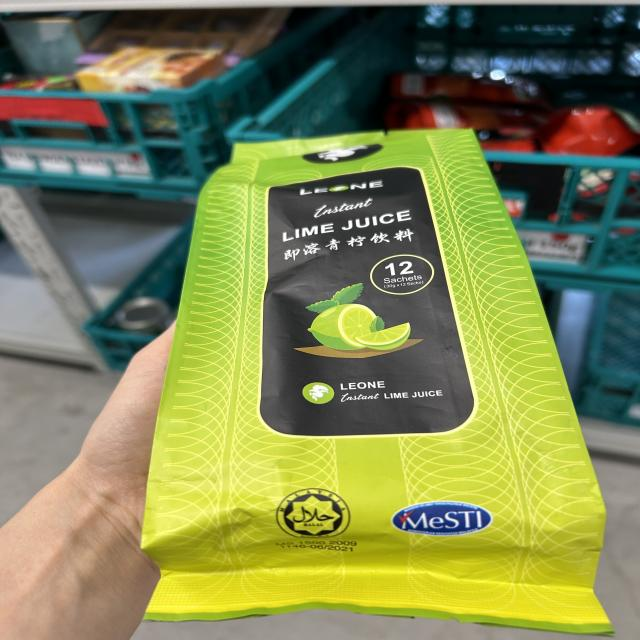object_name: (163, 149, 586, 626)
